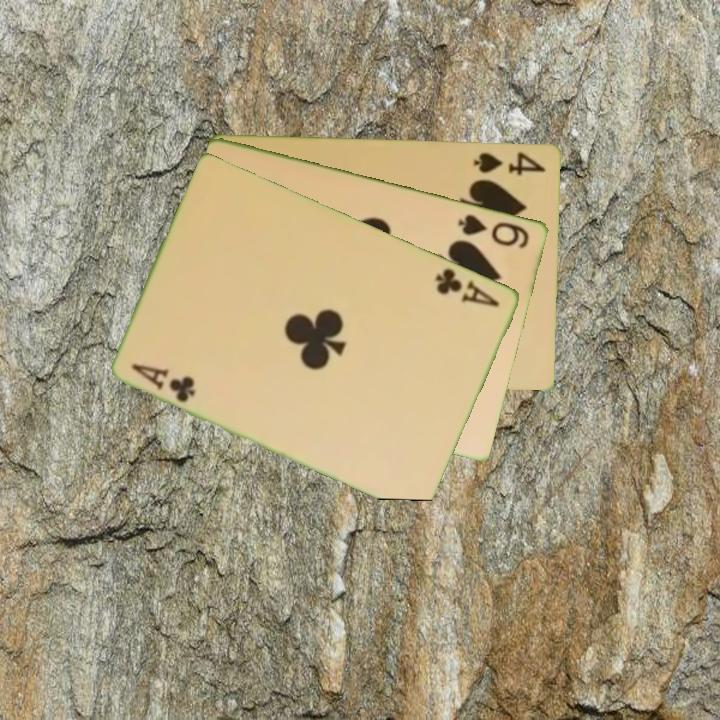4s: (470, 148, 549, 177)
6s: (455, 210, 533, 251)
Ac: (432, 264, 503, 310), (128, 359, 199, 405)
